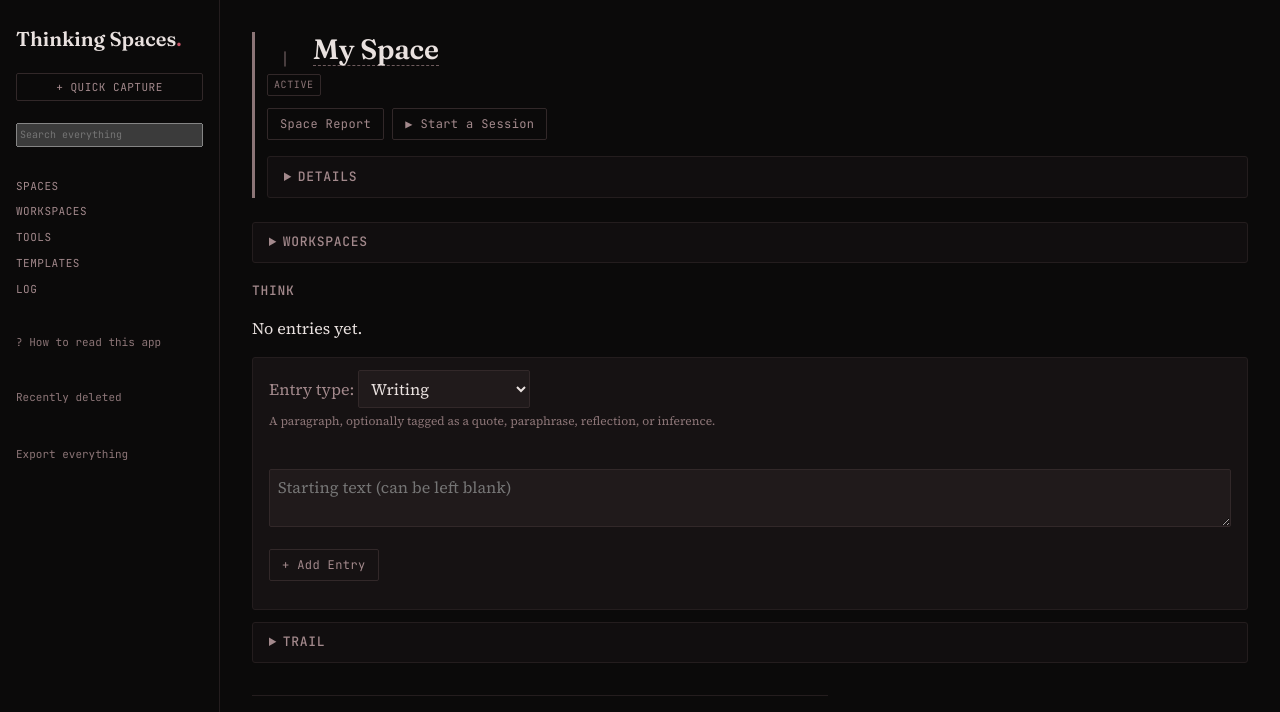
Test case: SpacePage: block feed actions › shows the selected Tool's own description, updating as the type changes
The image size is (1280, 712).
Expected: the text "No entries yet." is shown, [252,317,362,339]
Expected: the text with class "new-block-type-description" reads "A paragraph, optionally tagged as a quote, paraphrase, reflection, or inference.", [269,413,715,429]
Select "Claim" in the dropdown labelled "Entry type:" at (444, 389), box [358,370,530,408]
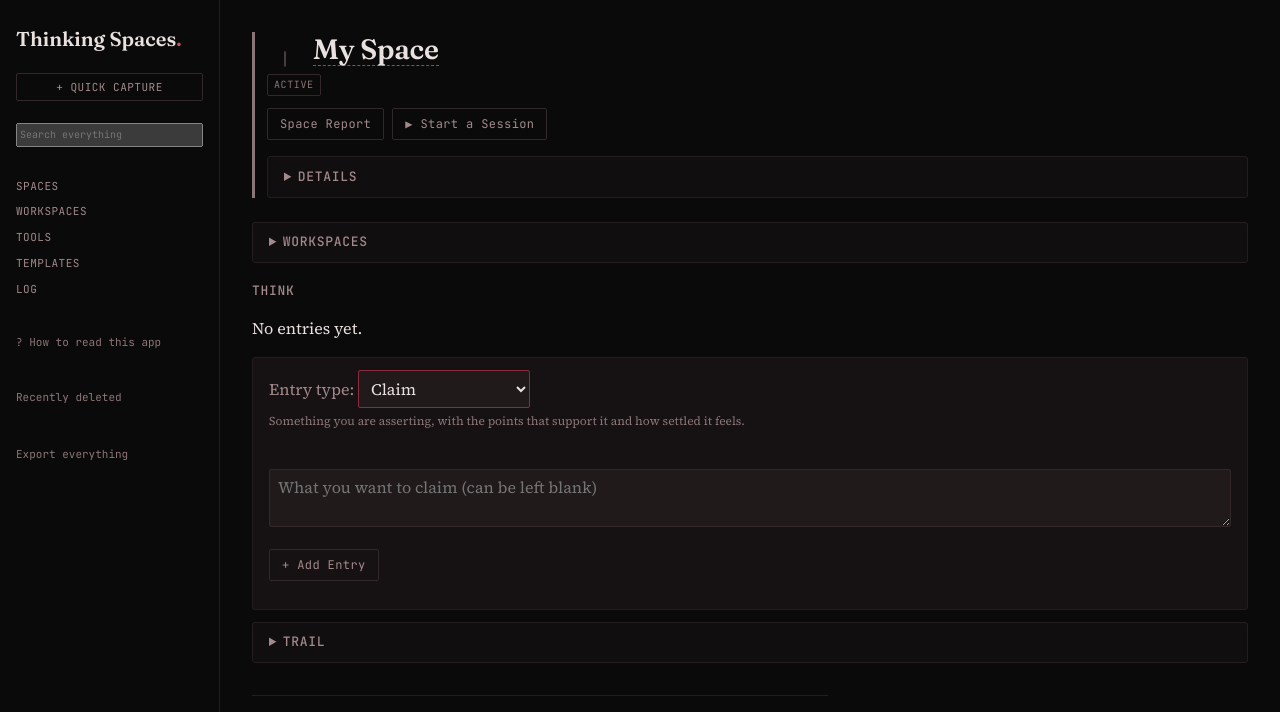
Result: the text with class "new-block-type-description" shows "Something you are asserting, with the points that support it and how settled it feels." at [269,413,745,429]
